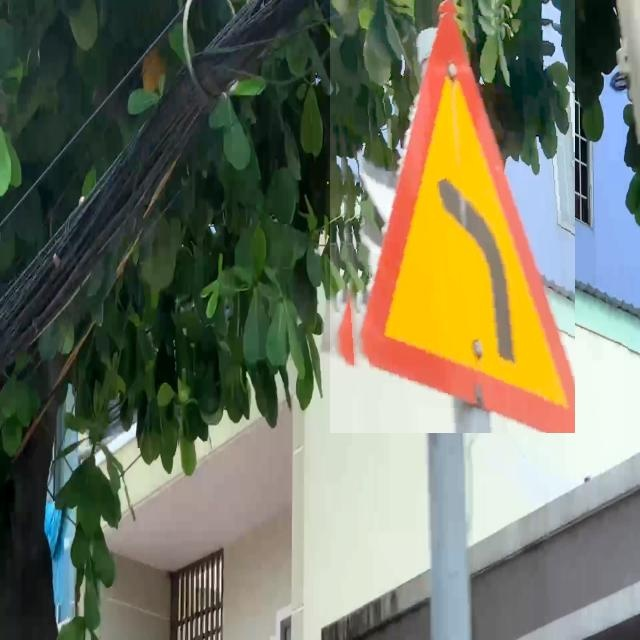bien_nguy_hiem: (330, 0, 575, 433)
